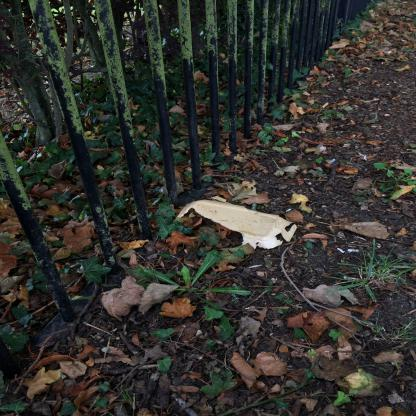kopuk: (178, 201, 298, 251)
